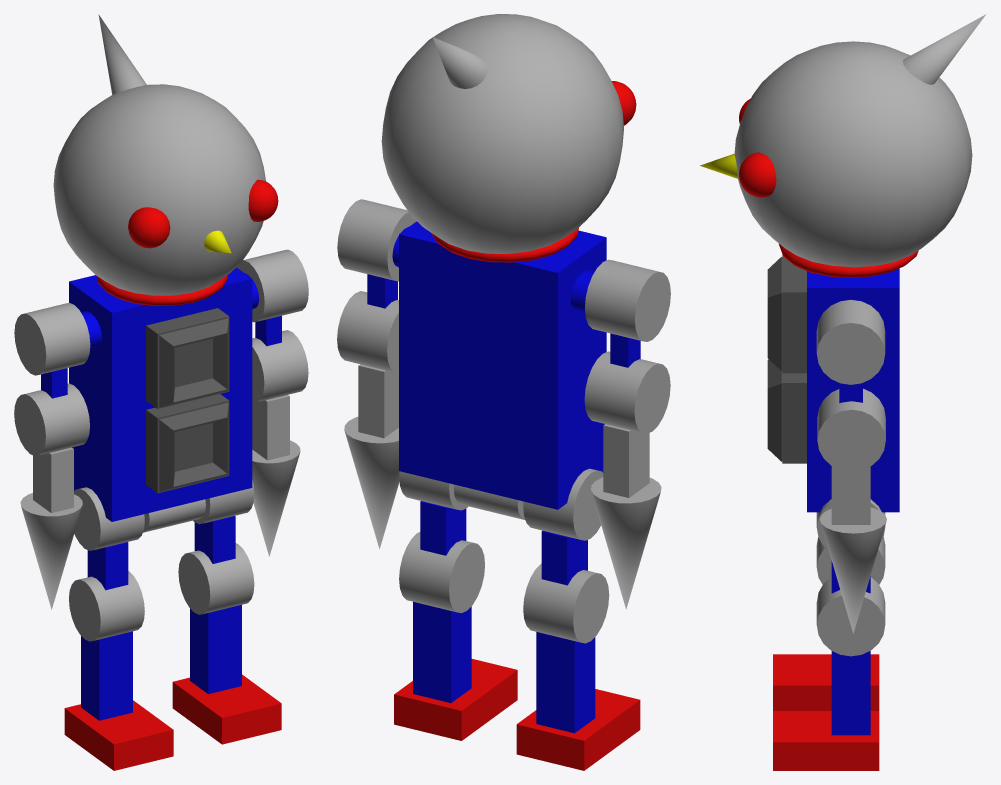
File: robomodel.fbx
3 views of the same model, side by side, from view 1: azimuth 30°, elevation 25°; view 2: azimuth 150°, elevation 25°; view 3: azimuth 270°, elevation 25° (orthographic). The views are drawn at different scales.
Parts seen in each view (by area): view 1: pSphere1, robot, foot_l, foot_r, pCylinder5, shoulder3, leg_l_04, leg_r_04, leg_r_03, leg_l_03, botton_01, botton_02 (+19 smaller); view 2: robot, pSphere1, pCylinder5, foot_l, foot_r, leg_r_04, shoulder3, leg_l_04, leg_l_03, leg_r_03, pCone4, pCylinder2 (+15 smaller); view 3: pSphere1, robot, foot_l, pCylinder2, shoulder, pCone1, foot_r, leg_l_03, leg_l_04, botton_01, botton_02, pCube4 (+7 smaller).
Boxes of the visible parts, bbox=[...] form: pSphere1: bbox=[53, 84, 265, 295]; robot: bbox=[69, 267, 252, 521]; foot_l: bbox=[172, 674, 281, 744]; foot_r: bbox=[64, 700, 173, 770]; pCylinder5: bbox=[14, 303, 90, 375]; shoulder3: bbox=[14, 383, 89, 456]; leg_l_04: bbox=[190, 605, 241, 694]; leg_r_04: bbox=[81, 631, 132, 720]; leg_r_03: bbox=[69, 571, 144, 641]; leg_l_03: bbox=[178, 543, 254, 614]; botton_01: bbox=[146, 308, 229, 408]; botton_02: bbox=[146, 394, 229, 493]; robot: bbox=[399, 221, 606, 509]; pSphere1: bbox=[381, 14, 623, 253]; pCylinder5: bbox=[585, 259, 670, 341]; foot_l: bbox=[394, 659, 517, 740]; foot_r: bbox=[516, 689, 640, 770]; leg_r_04: bbox=[536, 632, 595, 733]; shoulder3: bbox=[584, 351, 670, 433]; leg_l_04: bbox=[413, 601, 471, 702]; leg_l_03: bbox=[399, 532, 484, 613]; leg_r_03: bbox=[523, 563, 609, 643]; pCone4: bbox=[591, 477, 661, 609]; pCylinder2: bbox=[337, 199, 416, 281]; pSphere1: bbox=[734, 41, 972, 267]; robot: bbox=[807, 268, 899, 512]; foot_l: bbox=[773, 711, 879, 770]; pCylinder2: bbox=[816, 300, 885, 384]; shoulder: bbox=[817, 388, 885, 471]; pCone1: bbox=[819, 507, 886, 633]; foot_r: bbox=[773, 654, 879, 710]; leg_l_03: bbox=[816, 577, 885, 656]; leg_l_04: bbox=[831, 651, 870, 735]; botton_01: bbox=[782, 255, 806, 373]; botton_02: bbox=[782, 373, 806, 463]; pCube4: bbox=[831, 466, 870, 524].
Bounding box in the file's own units: 2.55 × 5.96 × 2.17.
